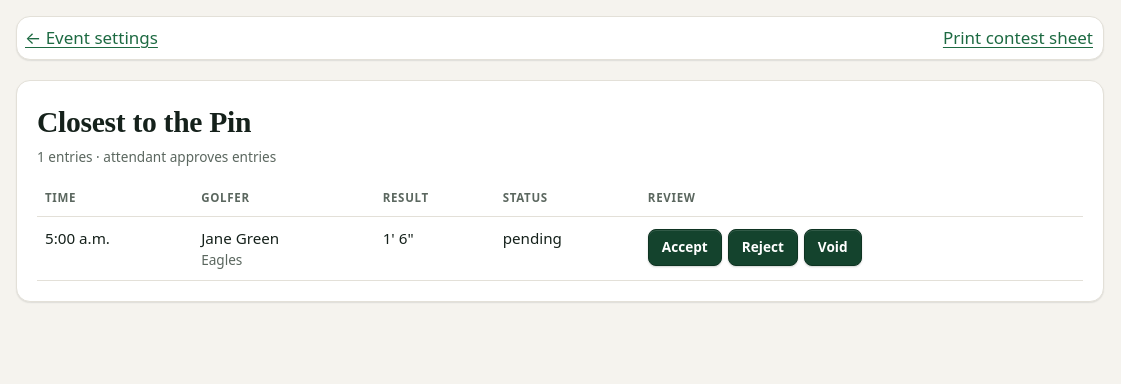
it: checks parent event access before rendering entries and keeps inch scoring
Expected: the text "Jane Green" is shown, [201,228,279,248]
Expected: the text "1' 6\"" is shown, [375,217,495,281]
Click the button "Accept" at (685, 247), box [648,229,722,266]
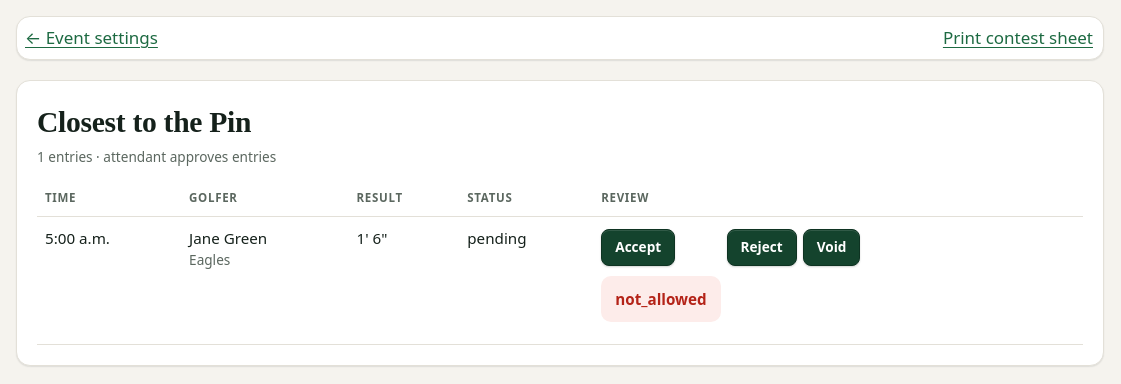
Result: the message reads "not_allowed" at [615,289,707,309]
